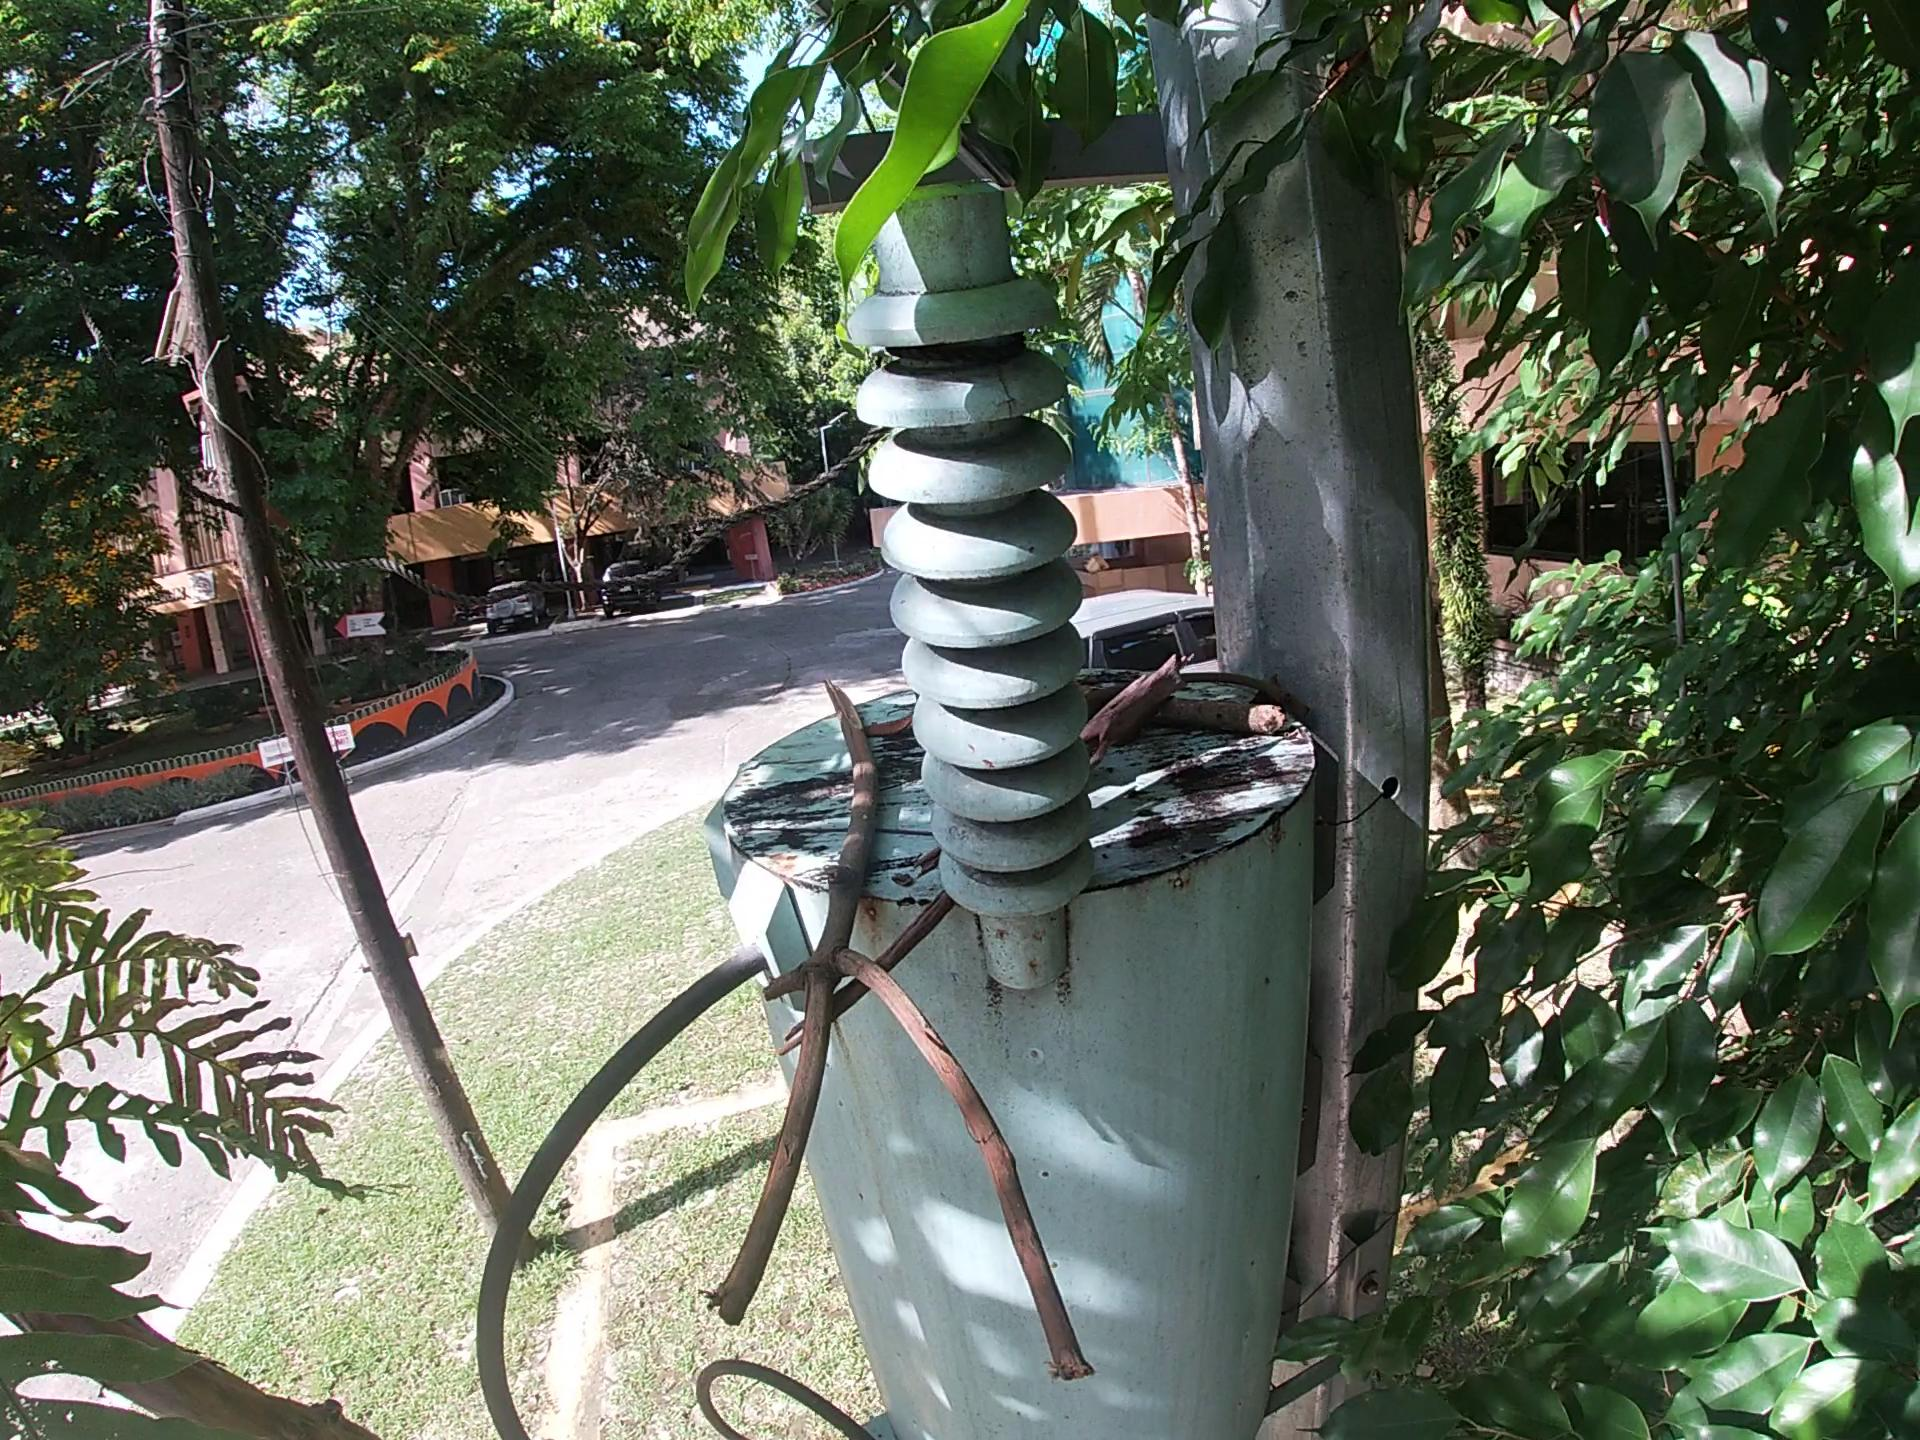tree branch: (689, 682, 1105, 1411), (824, 895, 962, 1038), (1095, 644, 1194, 740), (1163, 694, 1320, 737), (1181, 667, 1312, 705), (1090, 663, 1135, 697), (906, 839, 945, 877)
